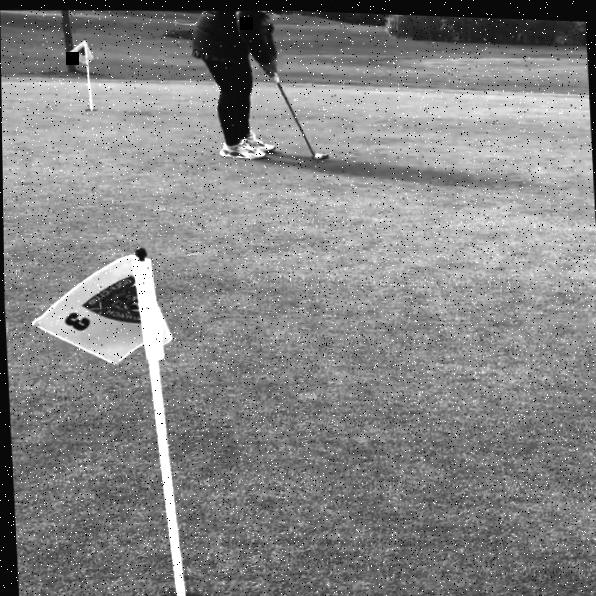ClubHead: (312, 151, 329, 159)
GolfBall: (315, 151, 321, 157)
